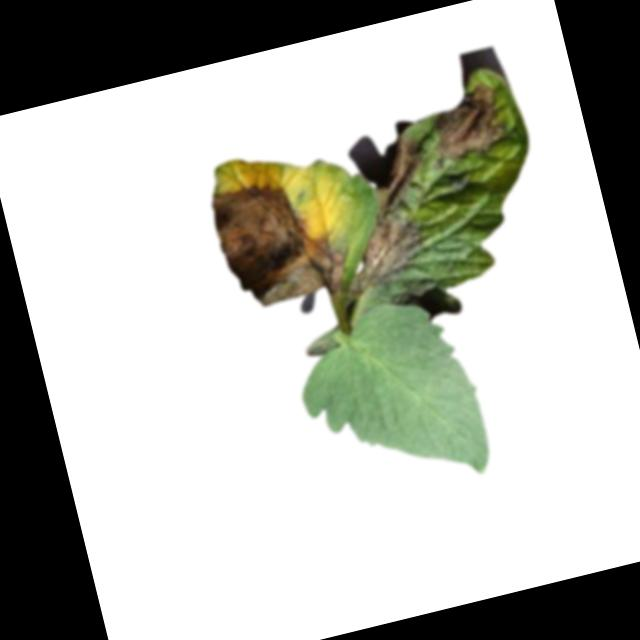Late_blight: (206, 163, 360, 324), (309, 130, 452, 299), (420, 79, 512, 166)
healthy: (284, 287, 498, 512)
